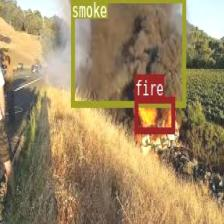fire: (134, 96, 174, 133)
smoke: (70, 0, 184, 105)
